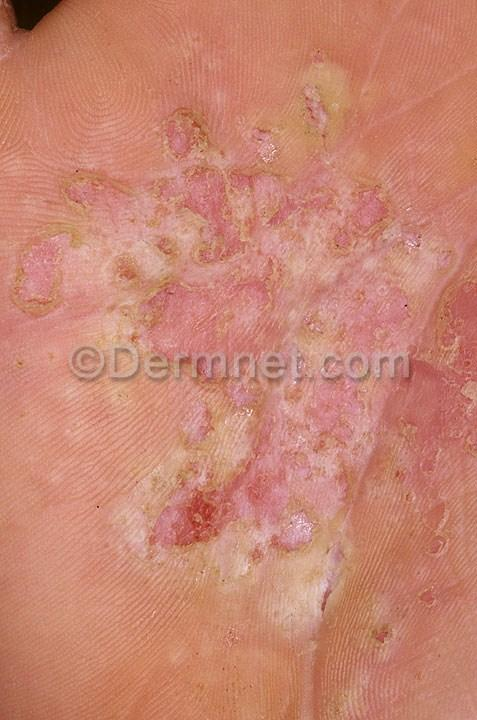Eczema: (80, 37, 463, 344), (127, 398, 477, 709), (0, 204, 81, 344), (414, 332, 477, 420)
